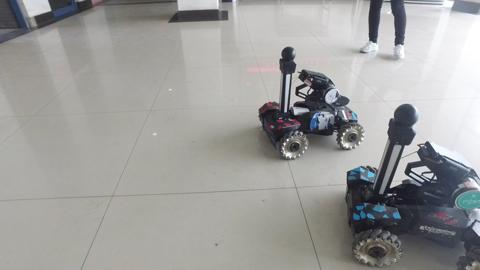chariot: (345, 103, 480, 270), (250, 46, 367, 160)
